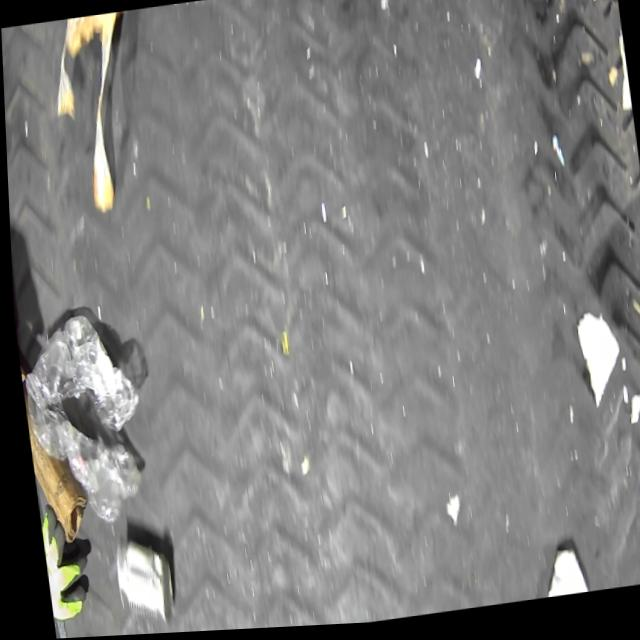can: (103, 526, 183, 630)
